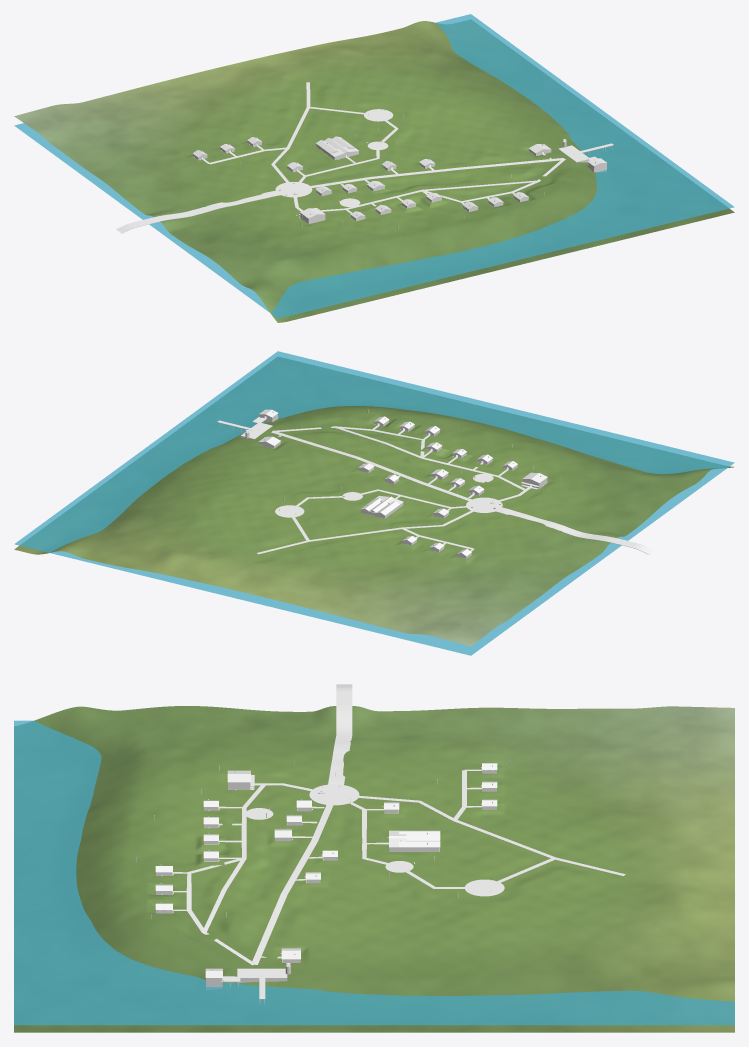
Rendered from world_home.core.glb.
The picture shows the model from 3 angles, top to bottom: view 1: azimuth 30°, elevation 25°; view 2: azimuth 150°, elevation 25°; view 3: azimuth 270°, elevation 25°; orthographic projection. The views are drawn at different scales.
Parts seen in each view (by area): view 1: Terrain, Water, COL_Props; view 2: Terrain, Water, COL_Props; view 3: Terrain, Water, COL_Props.
Boxes of the visible parts, x1,y1,x2,y2 form: Terrain: (14,20,734,322); Water: (14,14,734,318); COL_Props: (116,82,613,233); Terrain: (14,357,733,646); Water: (14,351,734,655); COL_Props: (217,409,654,565); Terrain: (14,706,734,1032); Water: (14,720,734,1025); COL_Props: (135,684,625,1004).
Size of the model in its own units: 780 by 35.61 by 720.
